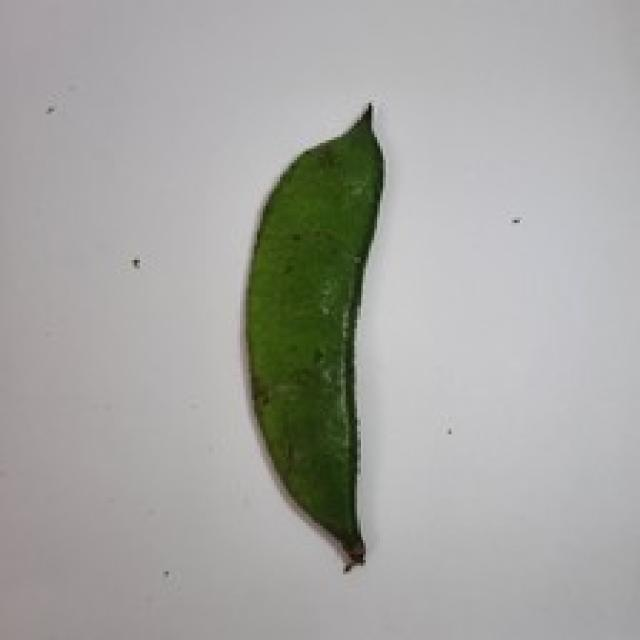Bean: (240, 100, 386, 571)
